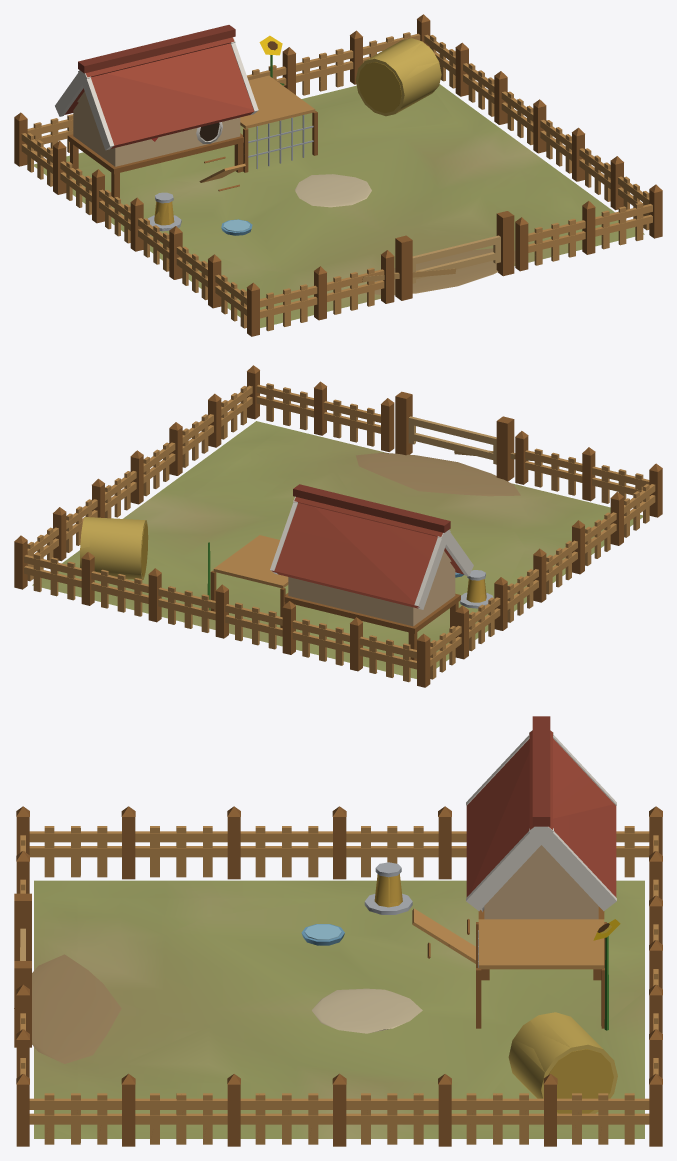
The model's file is quail_coop-g1.glb.
3 renders of one model, top to bottom at view 1: azimuth 30°, elevation 25°; view 2: azimuth 150°, elevation 25°; view 3: azimuth 270°, elevation 25°, orthographic. The views are drawn at different scales.
Parts seen in each view (by area): view 1: home-quail_coop-g1, home-quail_coop-g1-far; view 2: home-quail_coop-g1-far, home-quail_coop-g1; view 3: home-quail_coop-g1-far, home-quail_coop-g1.
Boxes of the visible parts, <box> form: home-quail_coop-g1: <box>14,14,655,336</box>; home-quail_coop-g1-far: <box>20,33,662,336</box>; home-quail_coop-g1-far: <box>14,370,657,687</box>; home-quail_coop-g1: <box>14,365,662,687</box>; home-quail_coop-g1-far: <box>14,735,662,1144</box>; home-quail_coop-g1: <box>14,716,662,1146</box>.
Size of the model in its own units: 5.93 by 1.74 by 5.95.
